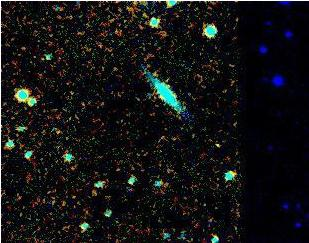star: (205, 129, 235, 159)
